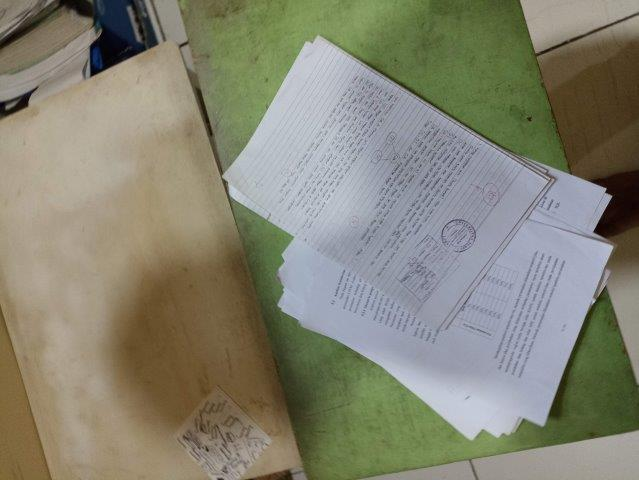kertas: (222, 35, 616, 440)
